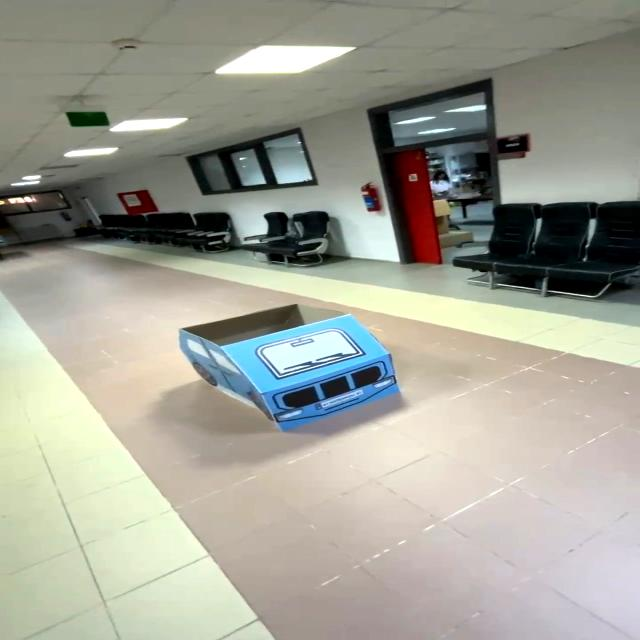blue_car: (155, 278, 414, 440)
